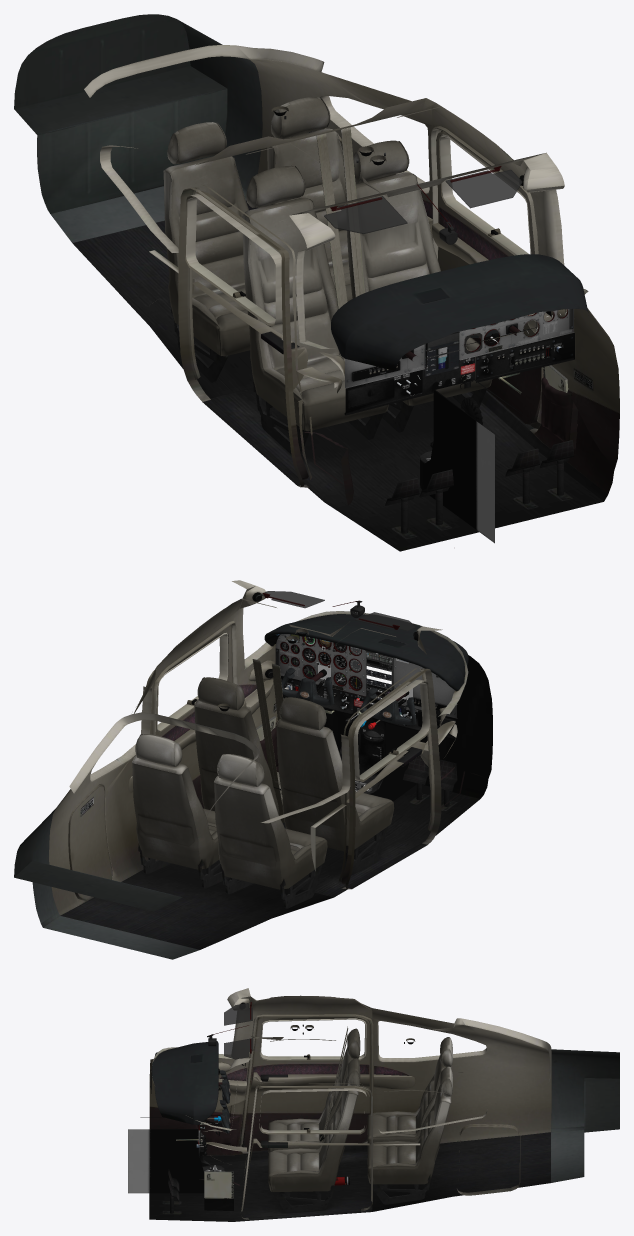
Rendered from interior.gltf.
The picture shows the model from 3 angles, top to bottom: view 1: azimuth 30°, elevation 25°; view 2: azimuth 150°, elevation 25°; view 3: azimuth 270°, elevation 25°; orthographic projection. The views are drawn at different scales.
Visible parts, largest first — view 1: Interior; view 2: Interior; view 3: Interior.
Part boxes in pixels (bbox=[...]): Interior: bbox=[14, 14, 619, 551]; Interior: bbox=[14, 580, 492, 959]; Interior: bbox=[128, 988, 619, 1221].
Size of the model in its own units: 1.43 by 1.31 by 4.3.
91 materials, 63 textured.
